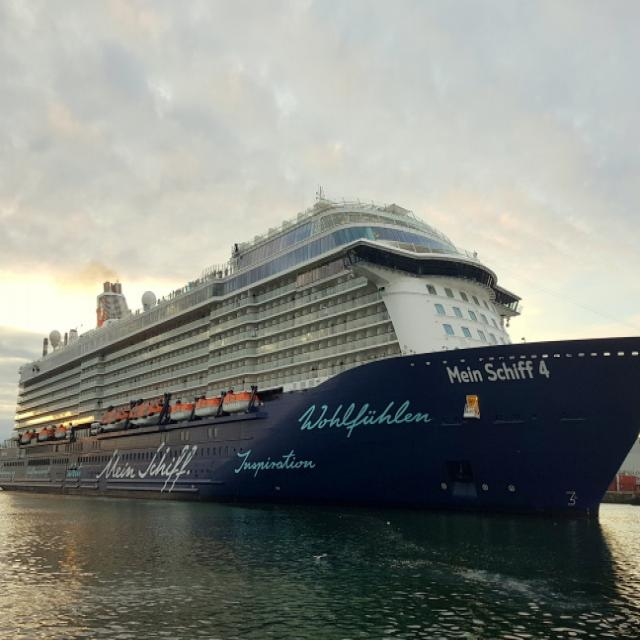cruises: (1, 179, 640, 558)
